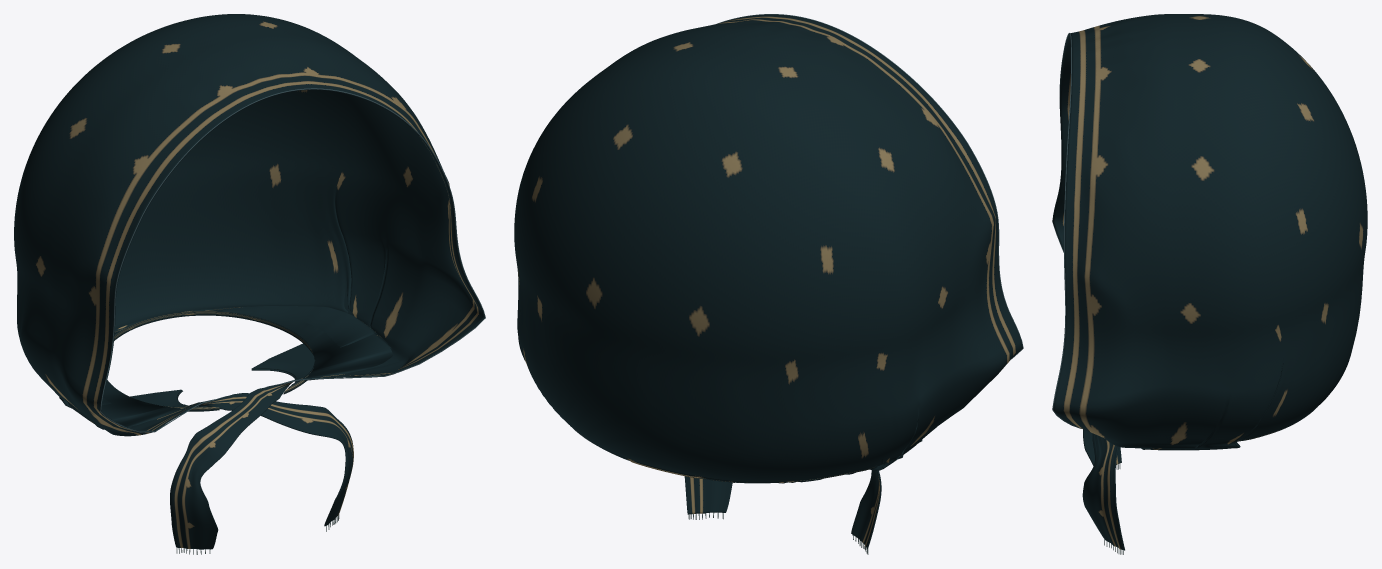
Rendered from Feminine-curls-sweatshirt-pashmina250-headgear.glb.
3 renders of one model, left to right at view 1: azimuth 30°, elevation 25°; view 2: azimuth 150°, elevation 25°; view 3: azimuth 270°, elevation 25°, orthographic. The views are drawn at different scales.
Visible parts, largest first — view 1: 226 headgear / Headwear / continuous woven pashmina239, 226 headgear / Headwear / face edge239; view 2: 226 headgear / Headwear / continuous woven pashmina239, 226 headgear / Headwear / face edge239; view 3: 226 headgear / Headwear / continuous woven pashmina239, 226 headgear / Headwear / face edge239.
Part boxes in pixels (x1,y1,x2,y2): 226 headgear / Headwear / continuous woven pashmina239: (14,14,485,549); 226 headgear / Headwear / face edge239: (100,88,485,432); 226 headgear / Headwear / continuous woven pashmina239: (514,14,1022,548); 226 headgear / Headwear / face edge239: (717,14,1023,359); 226 headgear / Headwear / continuous woven pashmina239: (1052,14,1367,550); 226 headgear / Headwear / face edge239: (1052,33,1081,428).
Bounding box in the file's own units: 1.21 × 1.4 × 0.8338.
Materials: 3 (1 with a texture image).
